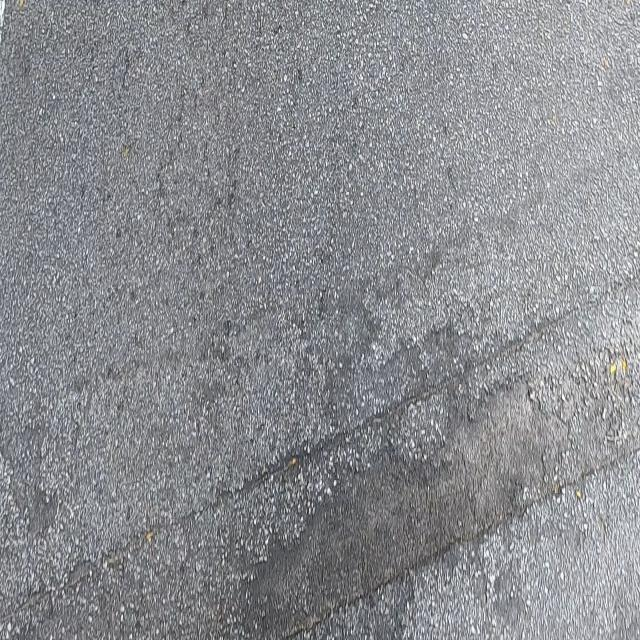Retak-Melintang: (0, 272, 639, 626), (280, 438, 640, 640)
